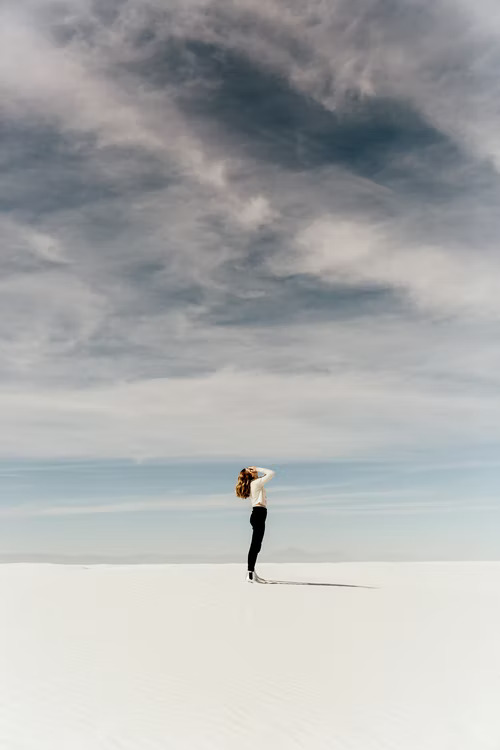person: (235, 466, 274, 582)
